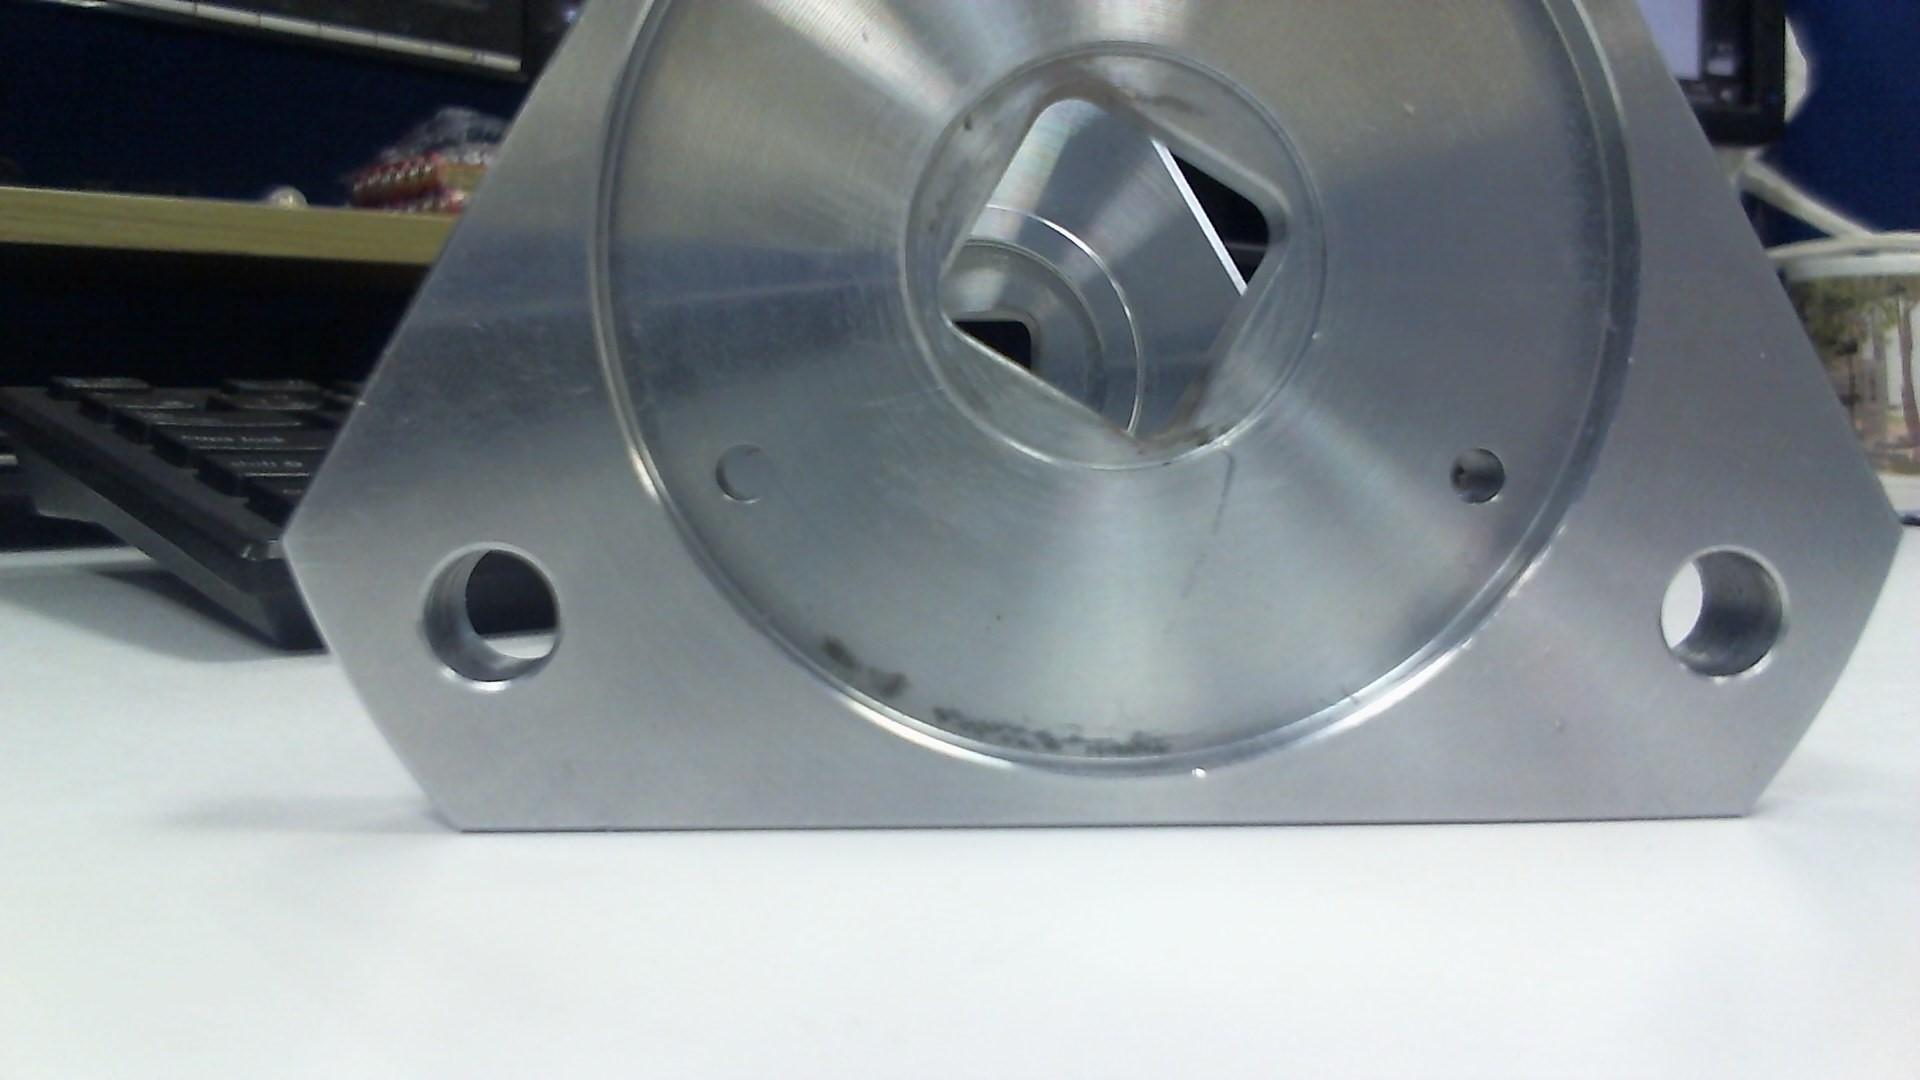hole: (410, 535, 568, 702), (1644, 529, 1799, 691)
